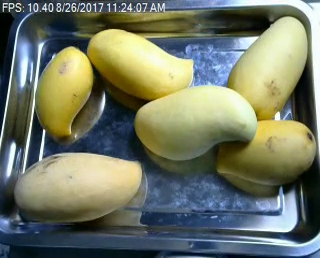Mango: (132, 84, 256, 161), (13, 153, 142, 223), (228, 15, 308, 121), (89, 29, 196, 98), (216, 119, 315, 187), (34, 46, 92, 137)
